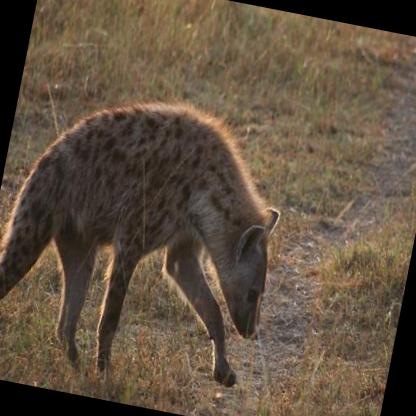African_hunting_dog: (0, 71, 300, 412)
